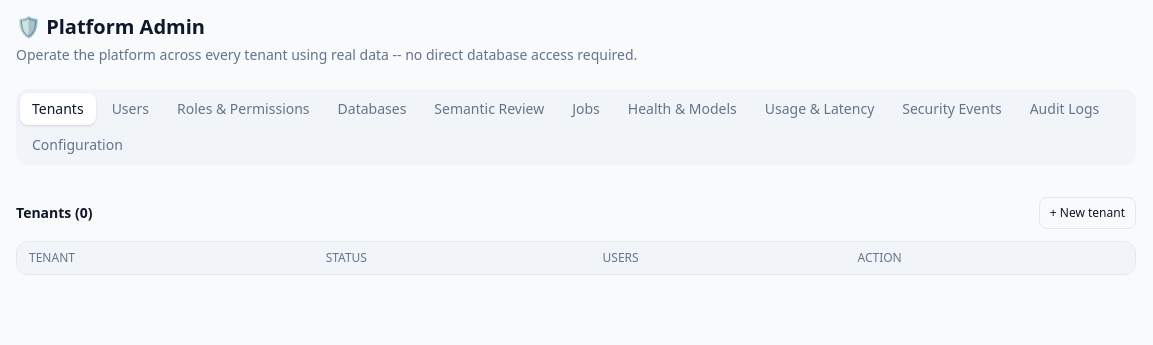
Test: PlatformAdmin › shows audit log entries from the new AuditLog table
Click the tab "Audit Logs" at (1064, 109), box [1018,93,1111,125]
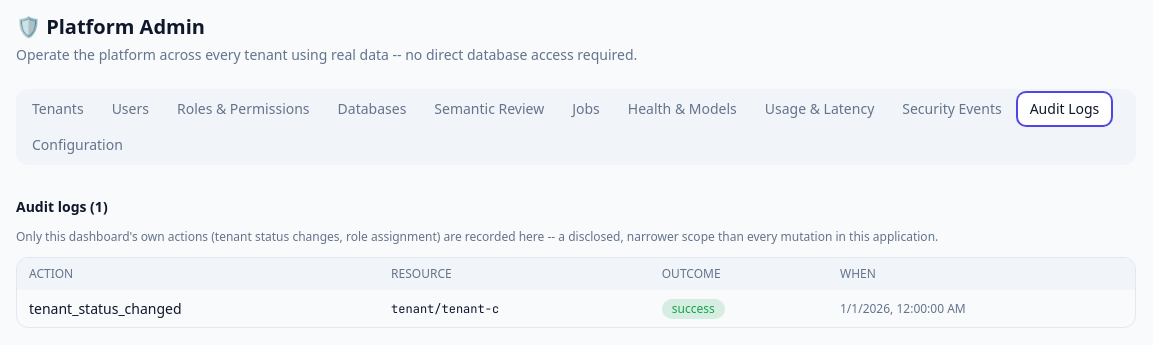
Result: the text "tenant_status_changed" is shown at [17,290,379,327]
Result: the text "tenant/tenant-c" is shown at [379,290,650,327]
